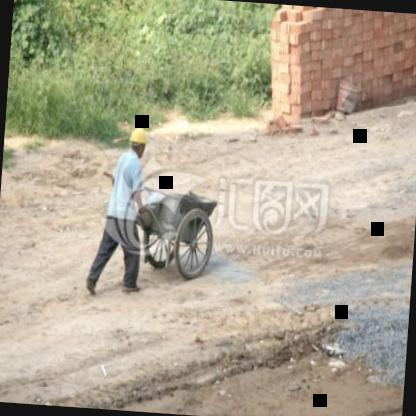helmet: (124, 123, 152, 164)
